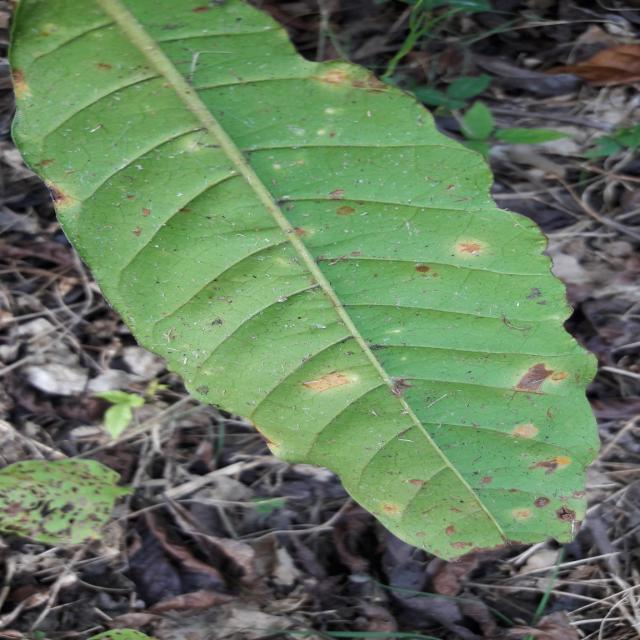Enfermedad-Roya: (7, 0, 601, 562)
